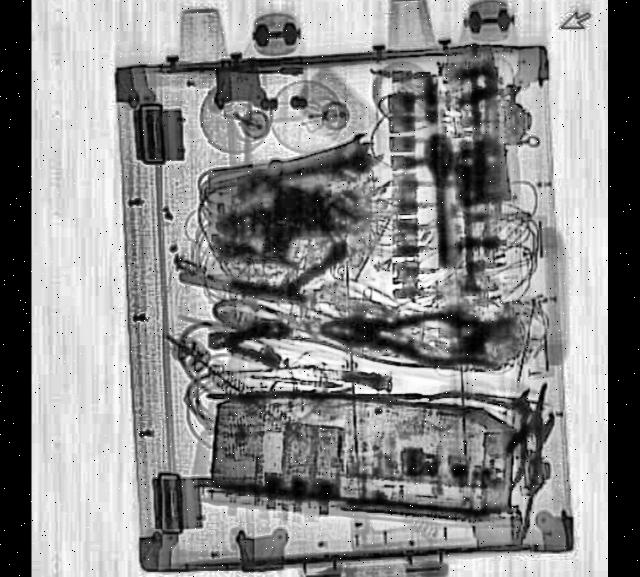Pliers: (426, 338, 561, 510), (318, 300, 497, 374)
Wrench: (271, 138, 384, 190)
